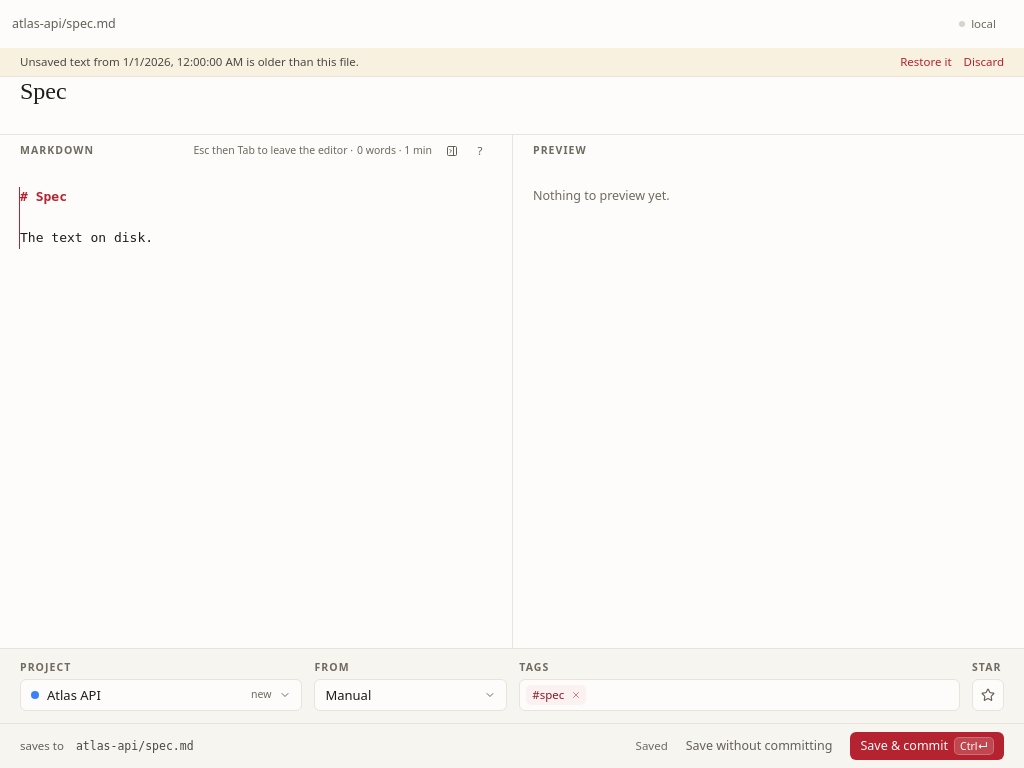
Test: Editor › a document that opens › offers text parked before the file last changed, instead of putting it back
The image size is (1024, 768).
Check: the text "is older than this file" is shown, box [243, 54, 359, 69]
Check: the text "From before." is not shown
Click the button "Restore it" at (926, 62), box [900, 54, 952, 70]
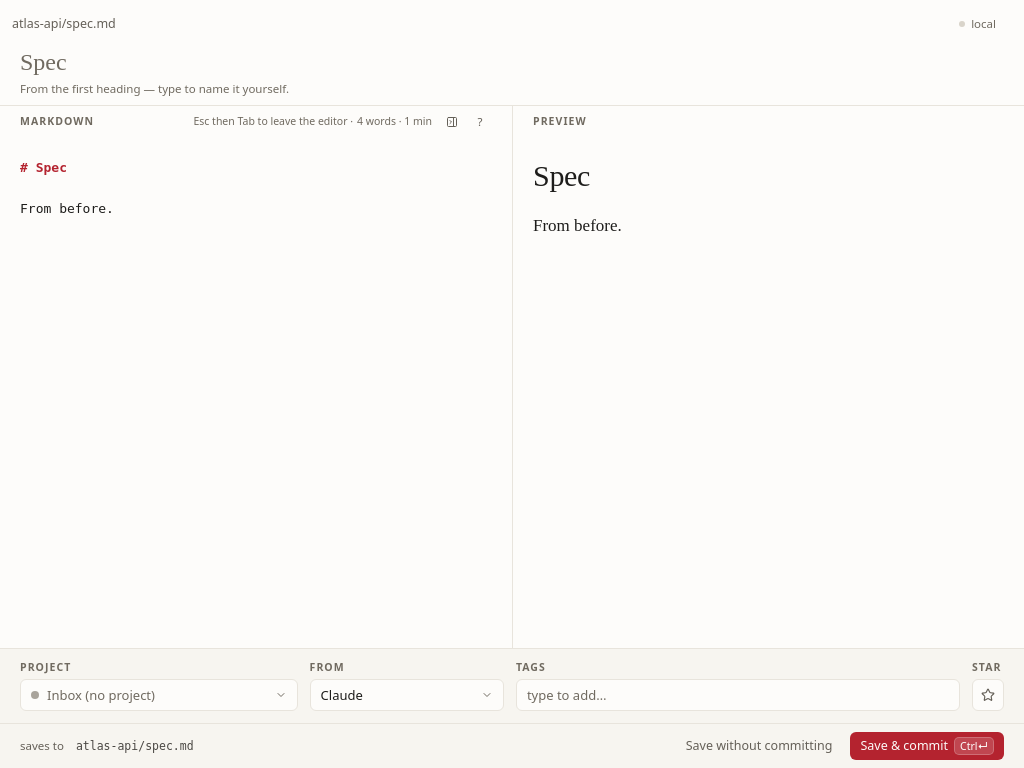
Check: the text box "From before." is shown, box [20, 202, 114, 216]
